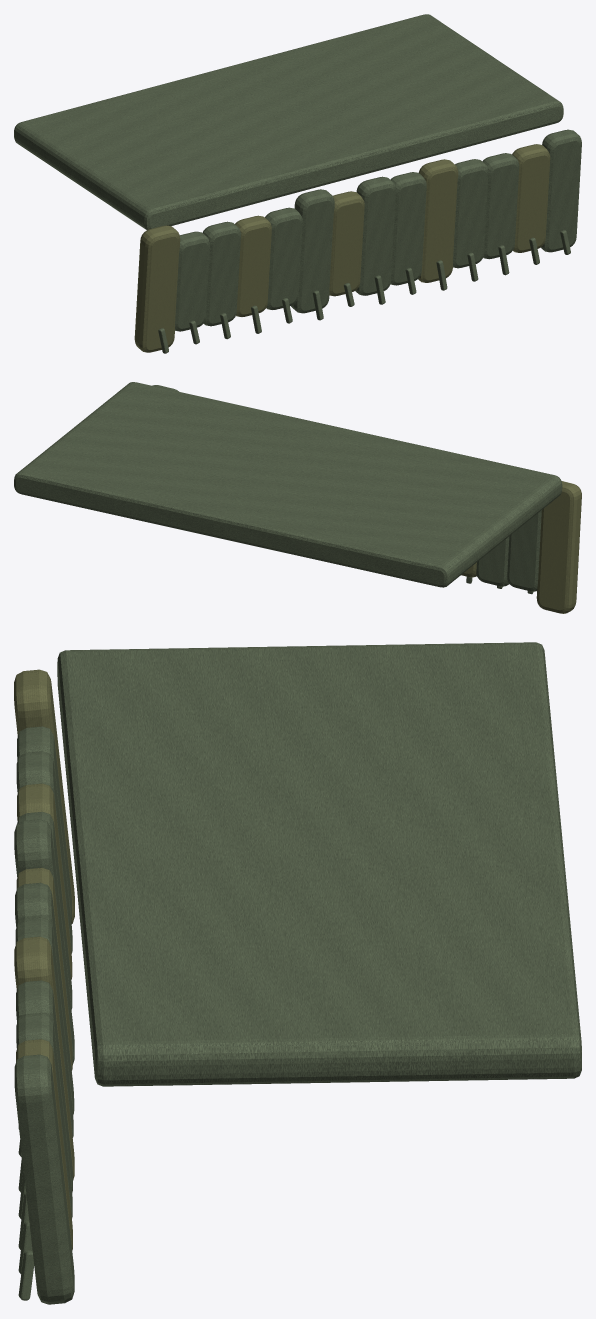
Rendered from blanket.glb.
The picture shows the model from 3 angles, top to bottom: view 1: azimuth 30°, elevation 25°; view 2: azimuth 150°, elevation 25°; view 3: azimuth 270°, elevation 25°; orthographic projection. The views are drawn at different scales.
Parts seen in each view (by area): view 1: blanket; view 2: blanket; view 3: blanket.
Part boxes in pixels (x1,y1,x2,y2): blanket: (14,14,581,353); blanket: (14,382,581,613); blanket: (14,642,581,1304).
Size of the model in its own units: 1.15 by 0.3553 by 0.6646.
Materials: 2 (2 with a texture image).
